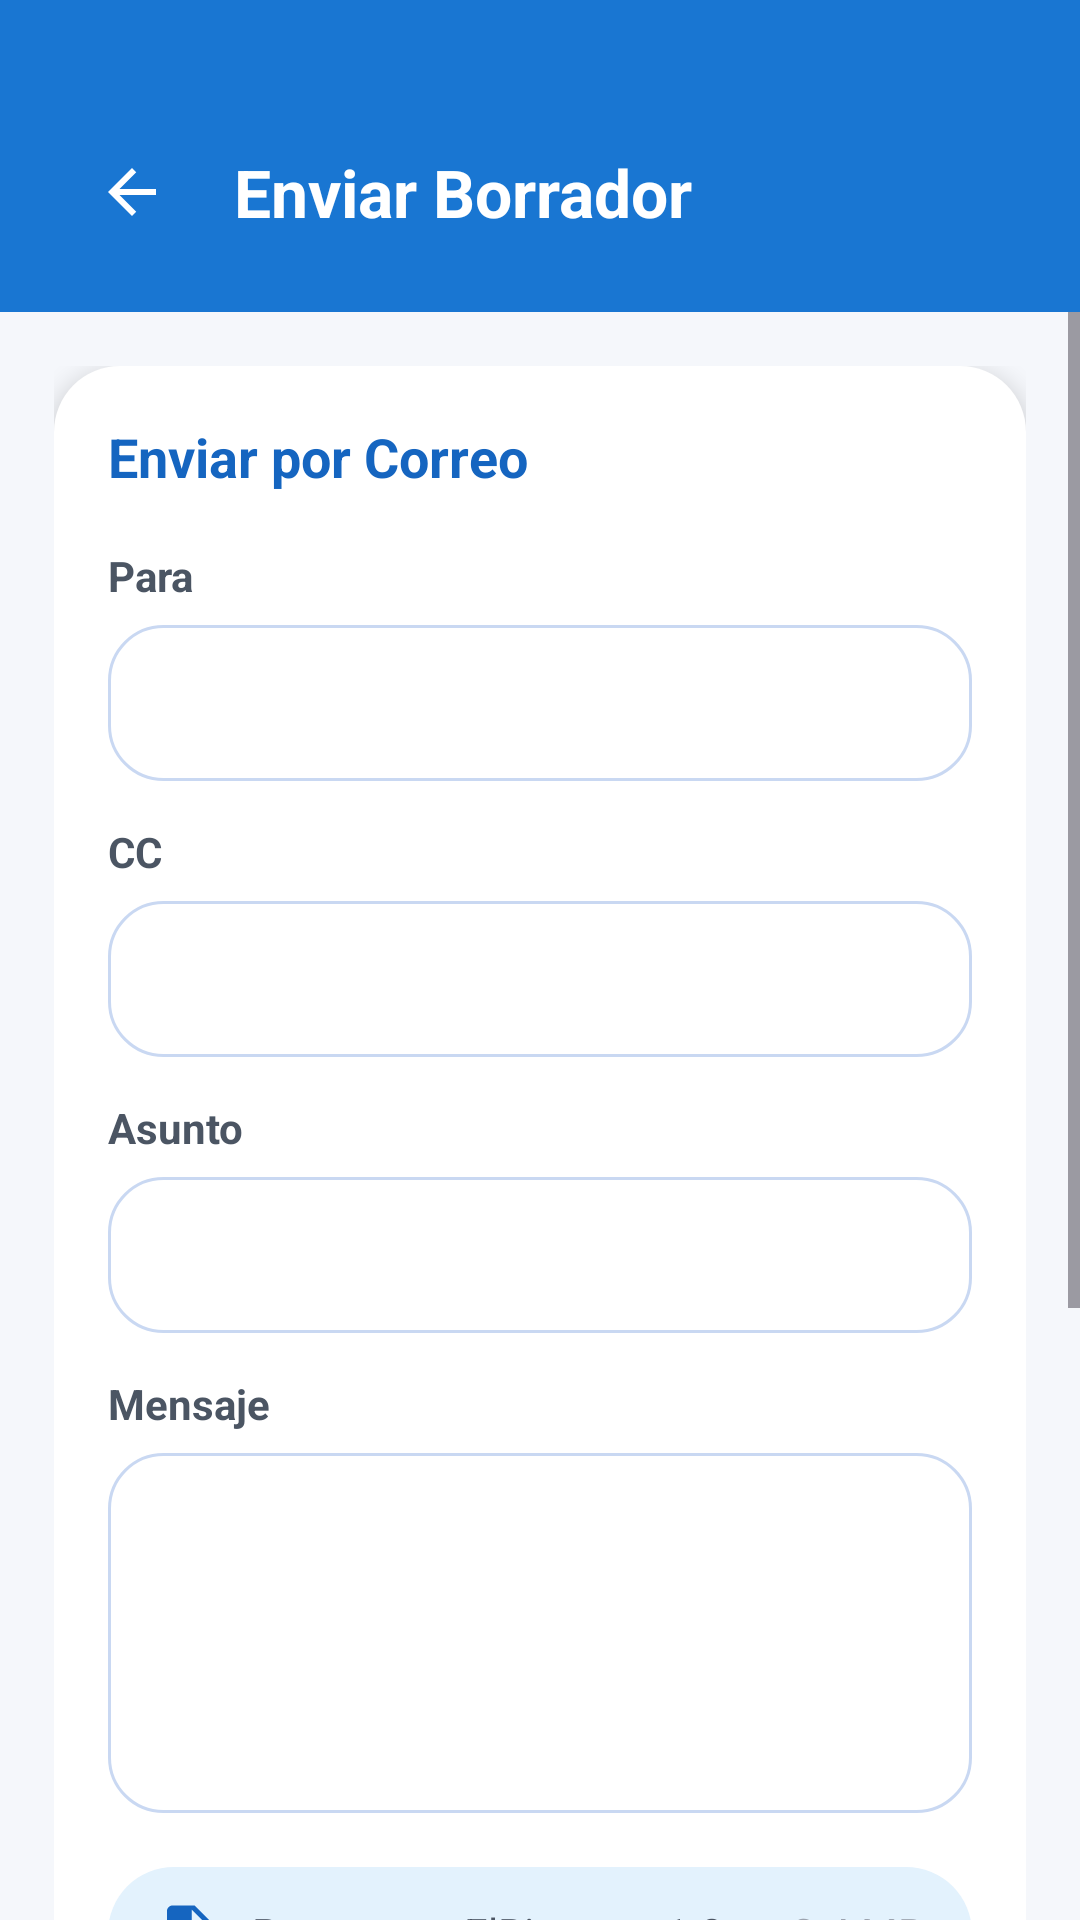

Where to tap for icons on this 1080 x 1920 app screen, as (x,y):
arrow back: (132,192)
